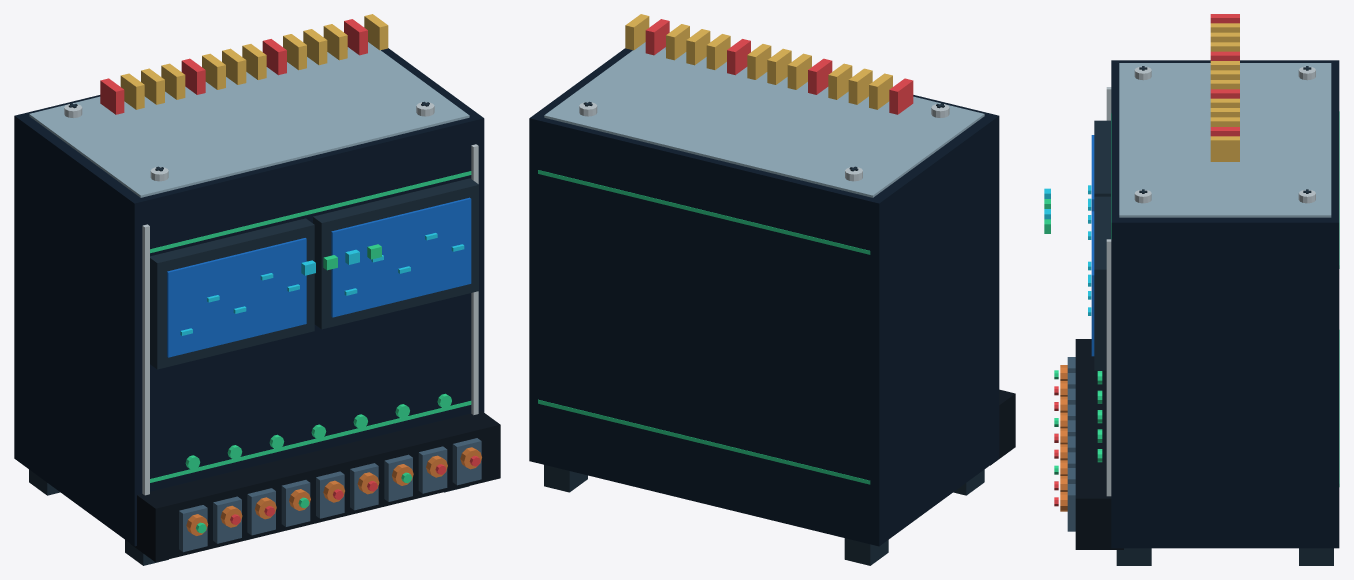
File: 64_L79_Regulated5VControlSupply.fbx
3 views of the same model, side by side, from view 1: azimuth 30°, elevation 25°; view 2: azimuth 150°, elevation 25°; view 3: azimuth 270°, elevation 25° (orthographic). The views are drawn at different scales.
Parts seen in each view (by area): view 1: Regulated5VControlSupply; view 2: Regulated5VControlSupply; view 3: Regulated5VControlSupply.
Part boxes in pixels (<box>): Regulated5VControlSupply: <box>14,14,500,565</box>; Regulated5VControlSupply: <box>529,14,1015,565</box>; Regulated5VControlSupply: <box>1044,14,1339,565</box>.
Bounding box in the file's own units: 143 × 169 × 110.
